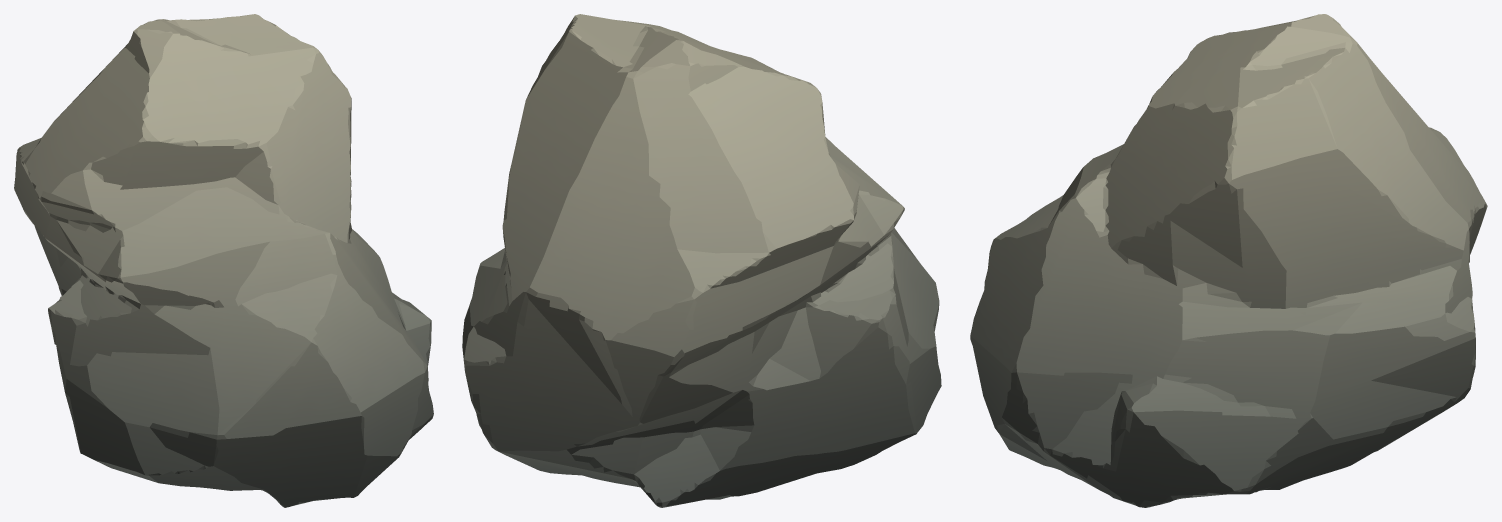
The model's file is rock_4_01.fbx.
The picture shows the model from 3 angles, left to right: view 1: azimuth 30°, elevation 25°; view 2: azimuth 150°, elevation 25°; view 3: azimuth 270°, elevation 25°; orthographic projection. The views are drawn at different scales.
Parts seen in each view (by area): view 1: rock_4_01; view 2: rock_4_01; view 3: rock_4_01.
Boxes of the visible parts, x1,y1,x2,y2 form: rock_4_01: (14, 14, 433, 507); rock_4_01: (462, 14, 941, 507); rock_4_01: (970, 14, 1487, 507).
Size of the model in its own units: 429 by 462 by 522.
